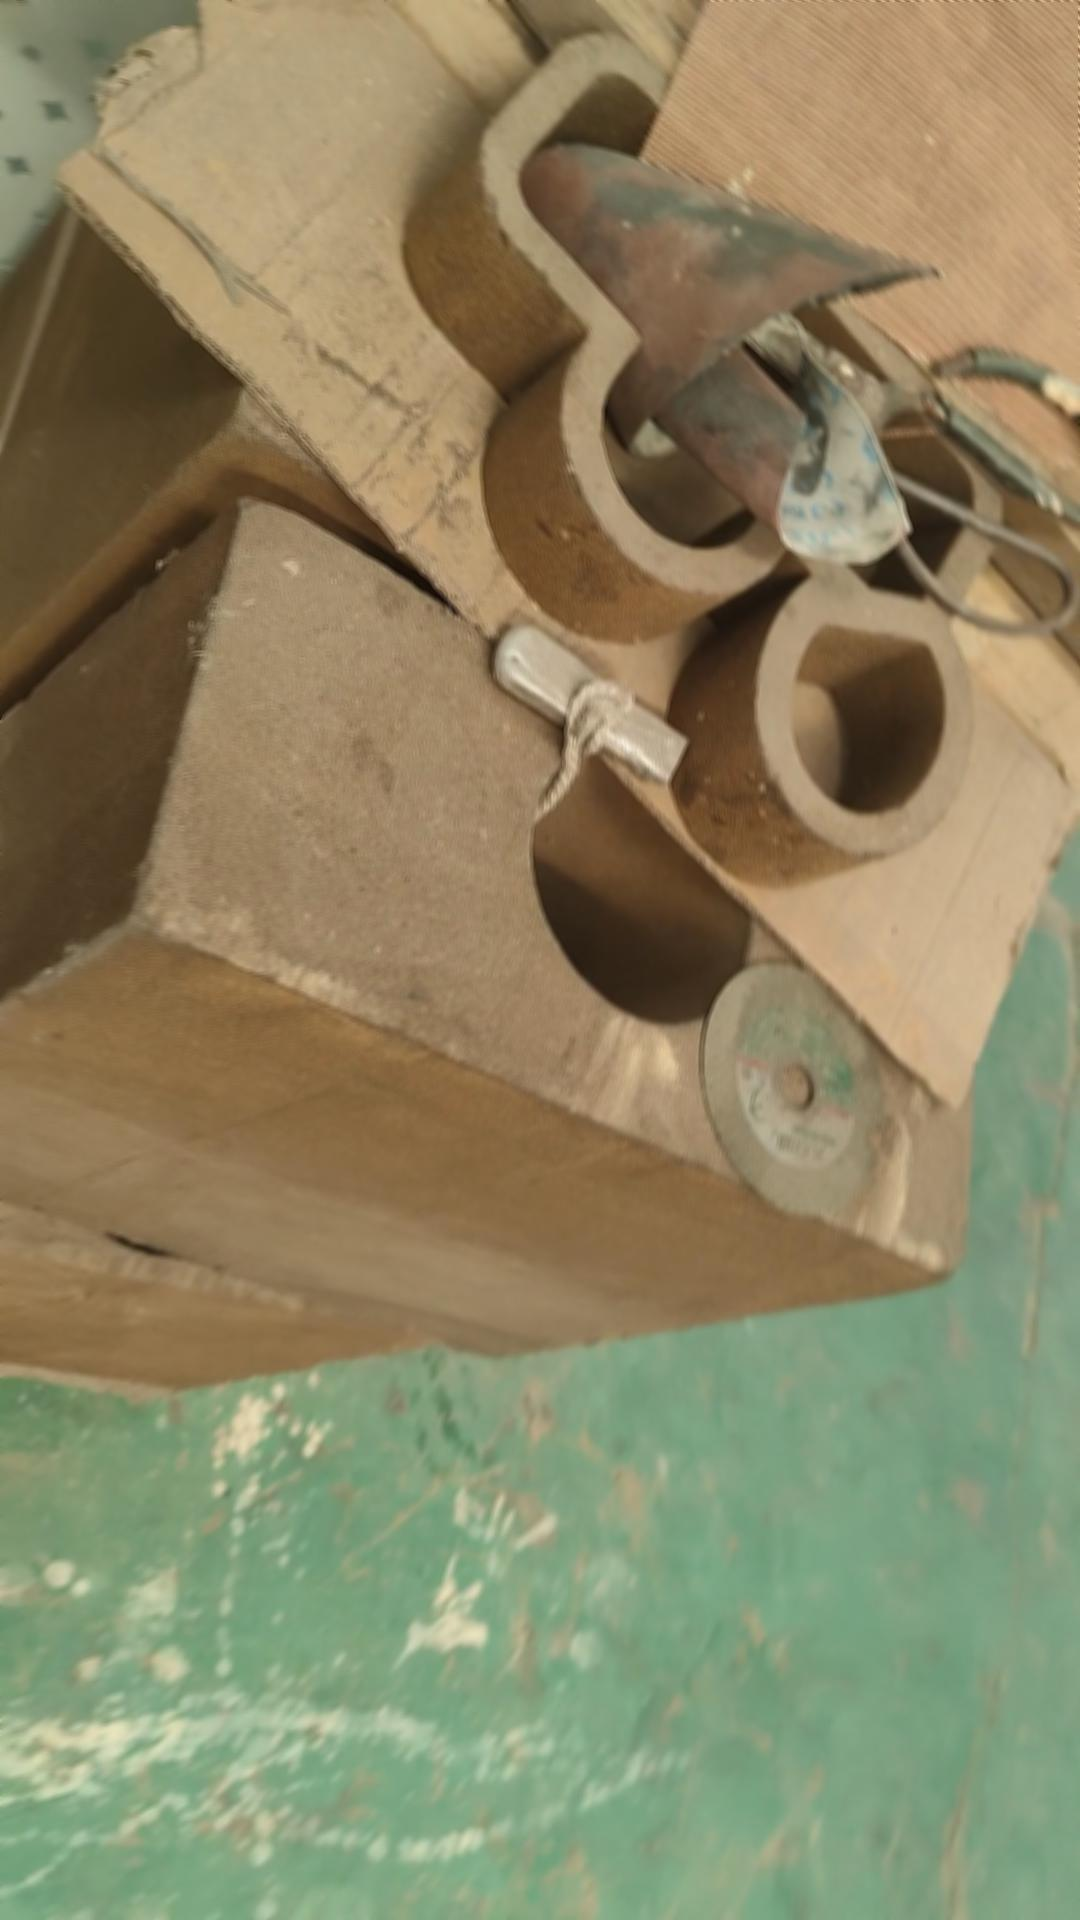pouring hole: (531, 742, 754, 1023)
